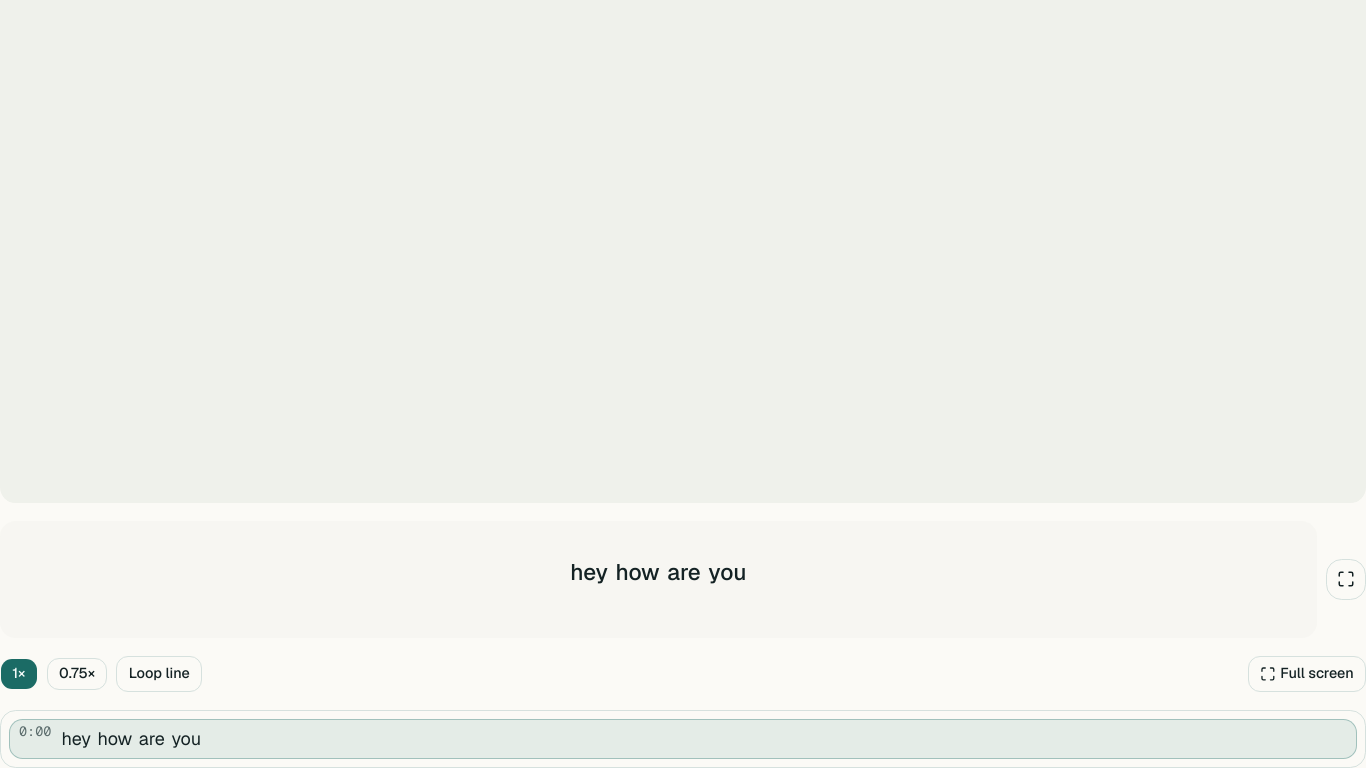
Scenario: B1 — full screen, where people look for it › a second, icon-only button enters Focus — beside the line under the video, not on it (W32f)
This screenshot has width=1366, height=768.
(page scrolled)
What coordinates should you click on to do the following:
click the button with test id "focus-corner"
I would click on:
 (1346, 579)
Its box is [1326,559,1365,600].
(page scrolled)
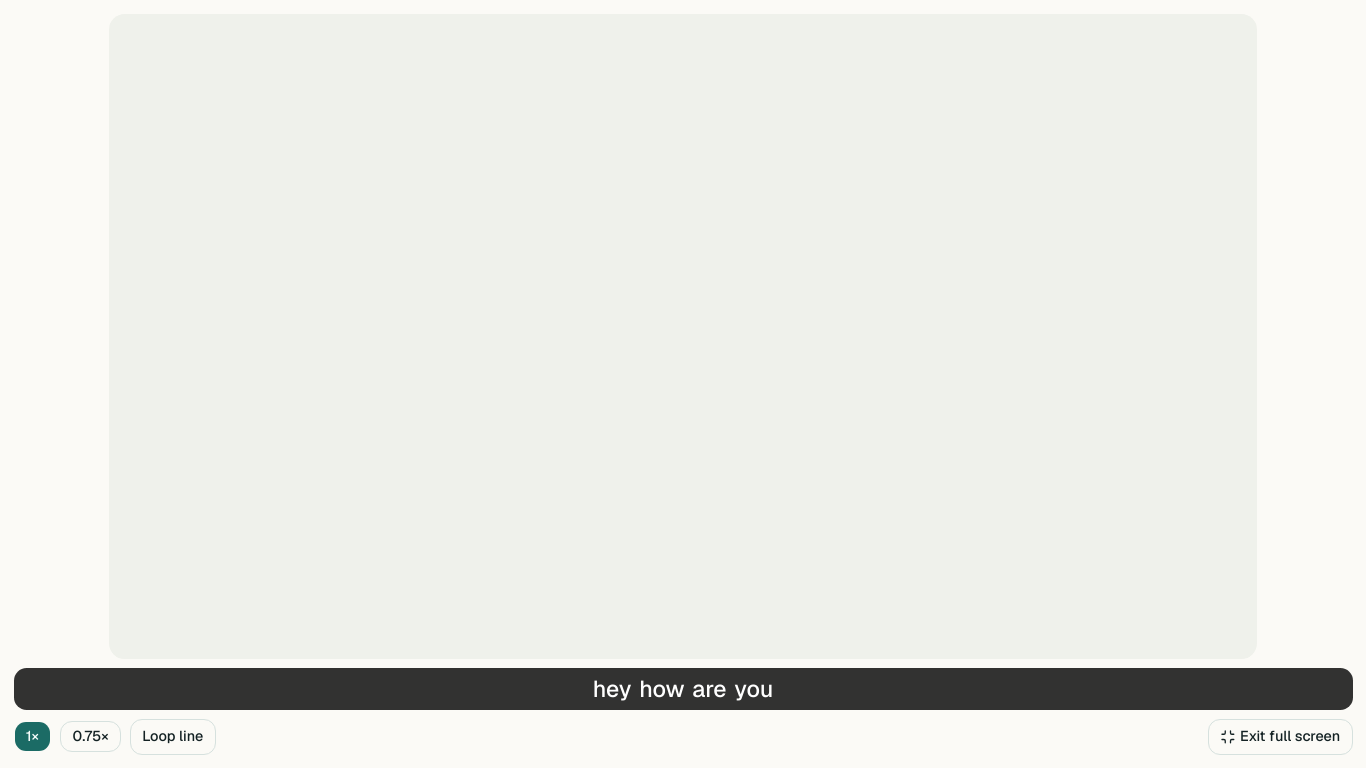
Check: the button with test id "focus-corner" is gone
